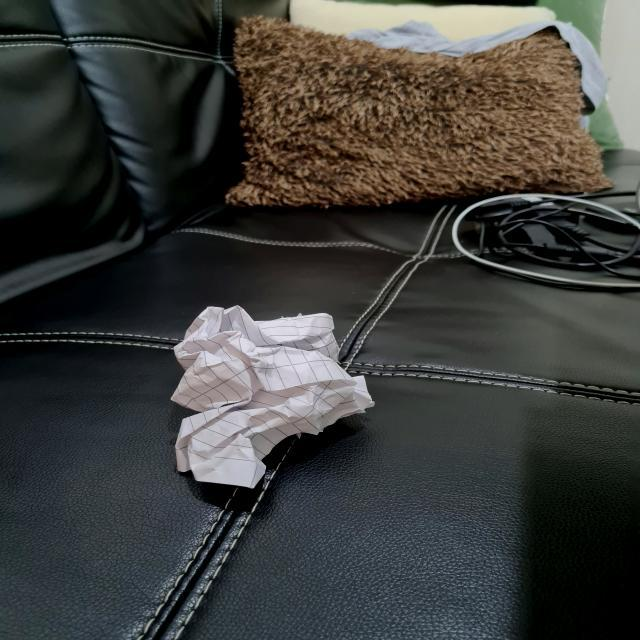Paper: (169, 299, 373, 493)
